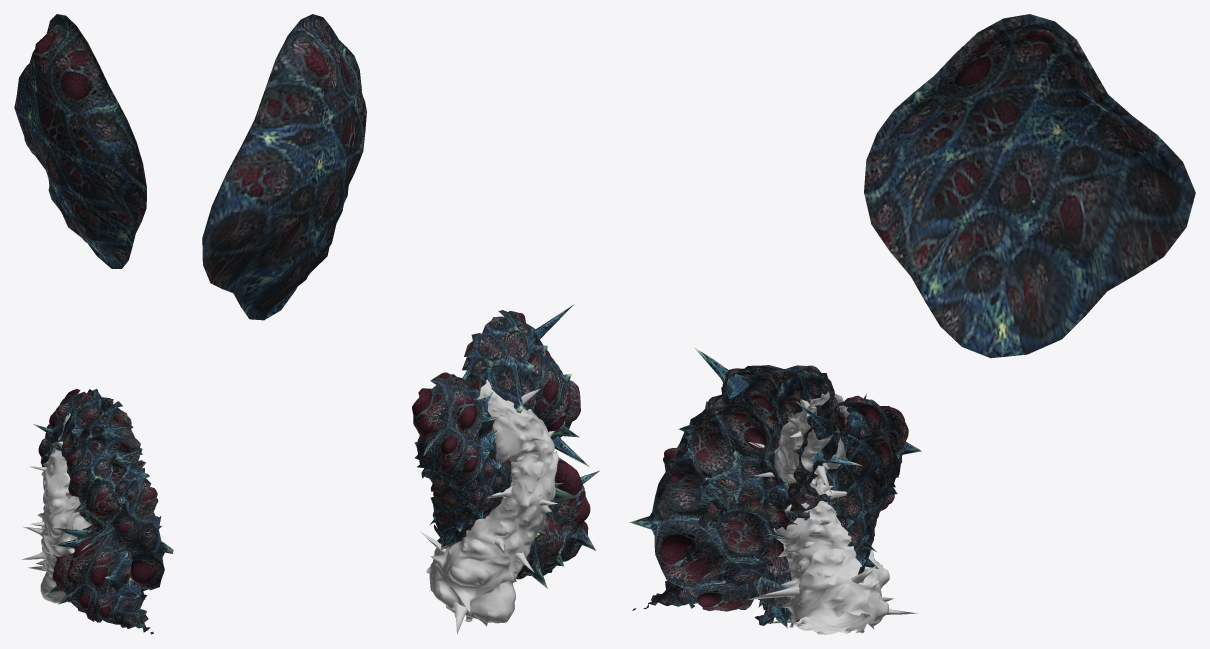
File: backup.fbx
The picture shows the model from 3 angles, left to right: view 1: azimuth 30°, elevation 25°; view 2: azimuth 150°, elevation 25°; view 3: azimuth 270°, elevation 25°; orthographic projection. The views are drawn at different scales.
Visible parts, largest first — view 1: LODGroup_1_MainMesh_1_SubMesh_1, LODGroup_1_MainMesh_1_SubMesh_2, LODGroup_1_MainMesh_1_SubMesh_3; view 2: LODGroup_1_MainMesh_1_SubMesh_1, LODGroup_1_MainMesh_1_SubMesh_3, LODGroup_1_MainMesh_1_SubMesh_2; view 3: LODGroup_1_MainMesh_1_SubMesh_1, LODGroup_1_MainMesh_1_SubMesh_2, LODGroup_1_MainMesh_1_SubMesh_3.
Boxes of the visible parts, left/top/right/bottom form: LODGroup_1_MainMesh_1_SubMesh_1: left=14, top=14, right=173, bottom=634; LODGroup_1_MainMesh_1_SubMesh_2: left=33, top=389, right=164, bottom=628; LODGroup_1_MainMesh_1_SubMesh_3: left=22, top=413, right=91, bottom=603; LODGroup_1_MainMesh_1_SubMesh_1: left=202, top=14, right=579, bottom=577; LODGroup_1_MainMesh_1_SubMesh_3: left=420, top=379, right=558, bottom=634; LODGroup_1_MainMesh_1_SubMesh_2: left=412, top=304, right=599, bottom=588; LODGroup_1_MainMesh_1_SubMesh_1: left=629, top=14, right=1195, bottom=625; LODGroup_1_MainMesh_1_SubMesh_2: left=652, top=347, right=921, bottom=628; LODGroup_1_MainMesh_1_SubMesh_3: left=748, top=391, right=917, bottom=634.
Size of the model in its own units: 455 by 1469 by 1128.
